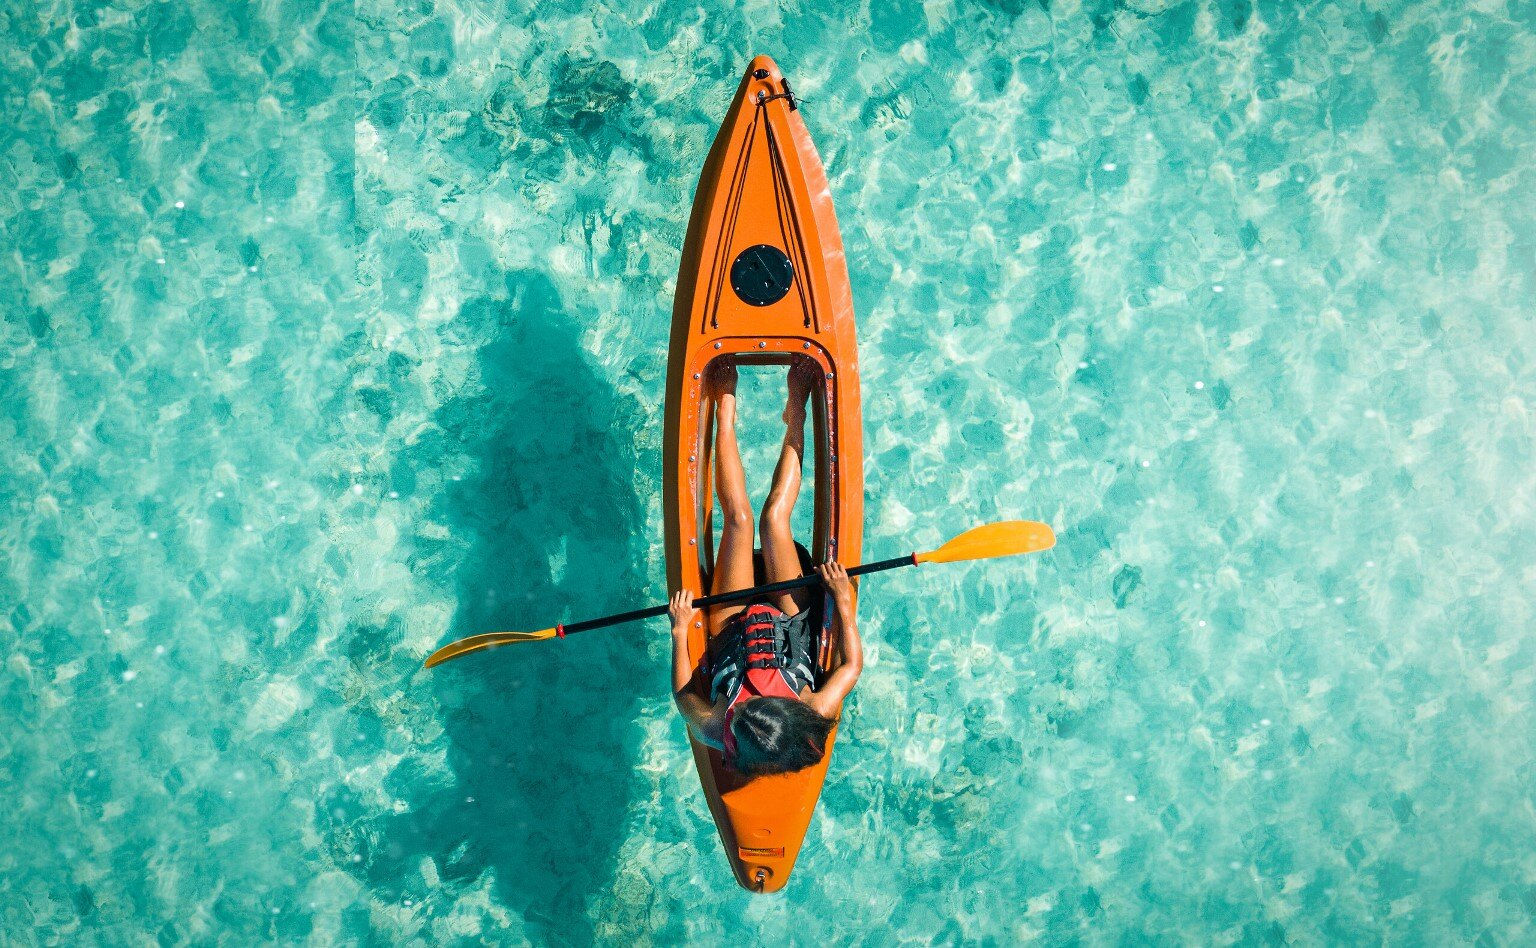kayaker: (419, 53, 1068, 903)
